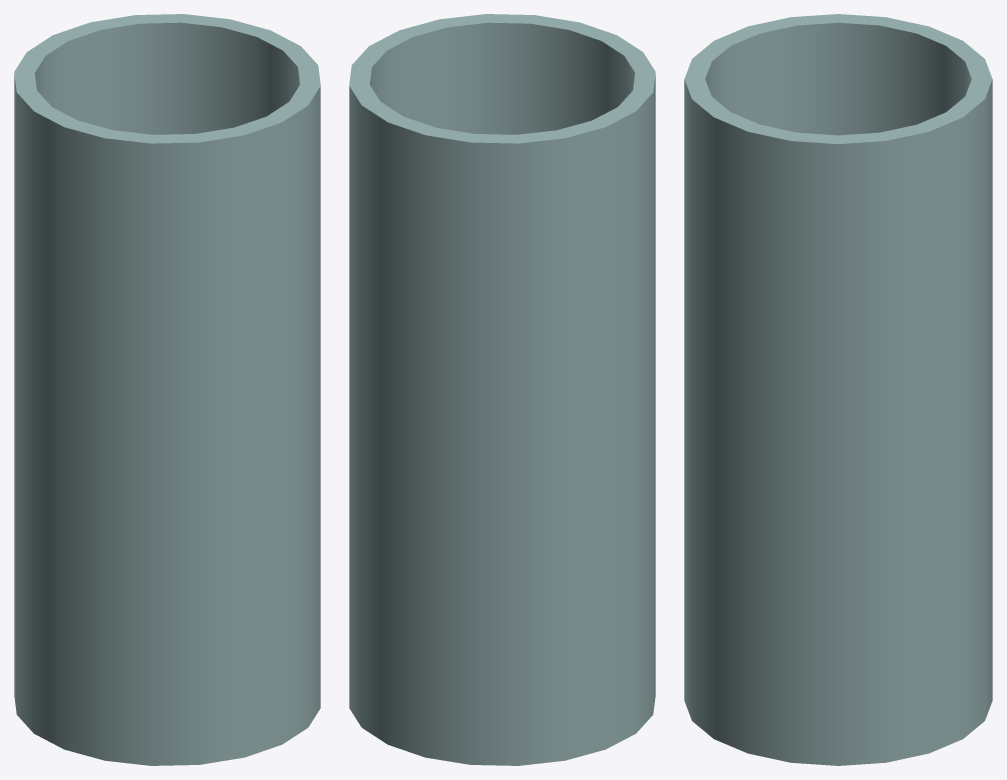
Rendered from Glass.fbx.
The picture shows the model from 3 angles, left to right: view 1: azimuth 30°, elevation 25°; view 2: azimuth 150°, elevation 25°; view 3: azimuth 270°, elevation 25°; orthographic projection.
Parts seen in each view (by area): view 1: pCylinder7; view 2: pCylinder7; view 3: pCylinder7.
Part boxes in pixels (left/top/right/bottom): pCylinder7: left=14, top=14, right=320, bottom=765; pCylinder7: left=349, top=14, right=655, bottom=765; pCylinder7: left=684, top=14, right=992, bottom=765.
Size of the model in its own units: 0.4728 by 1.05 by 0.4728.
